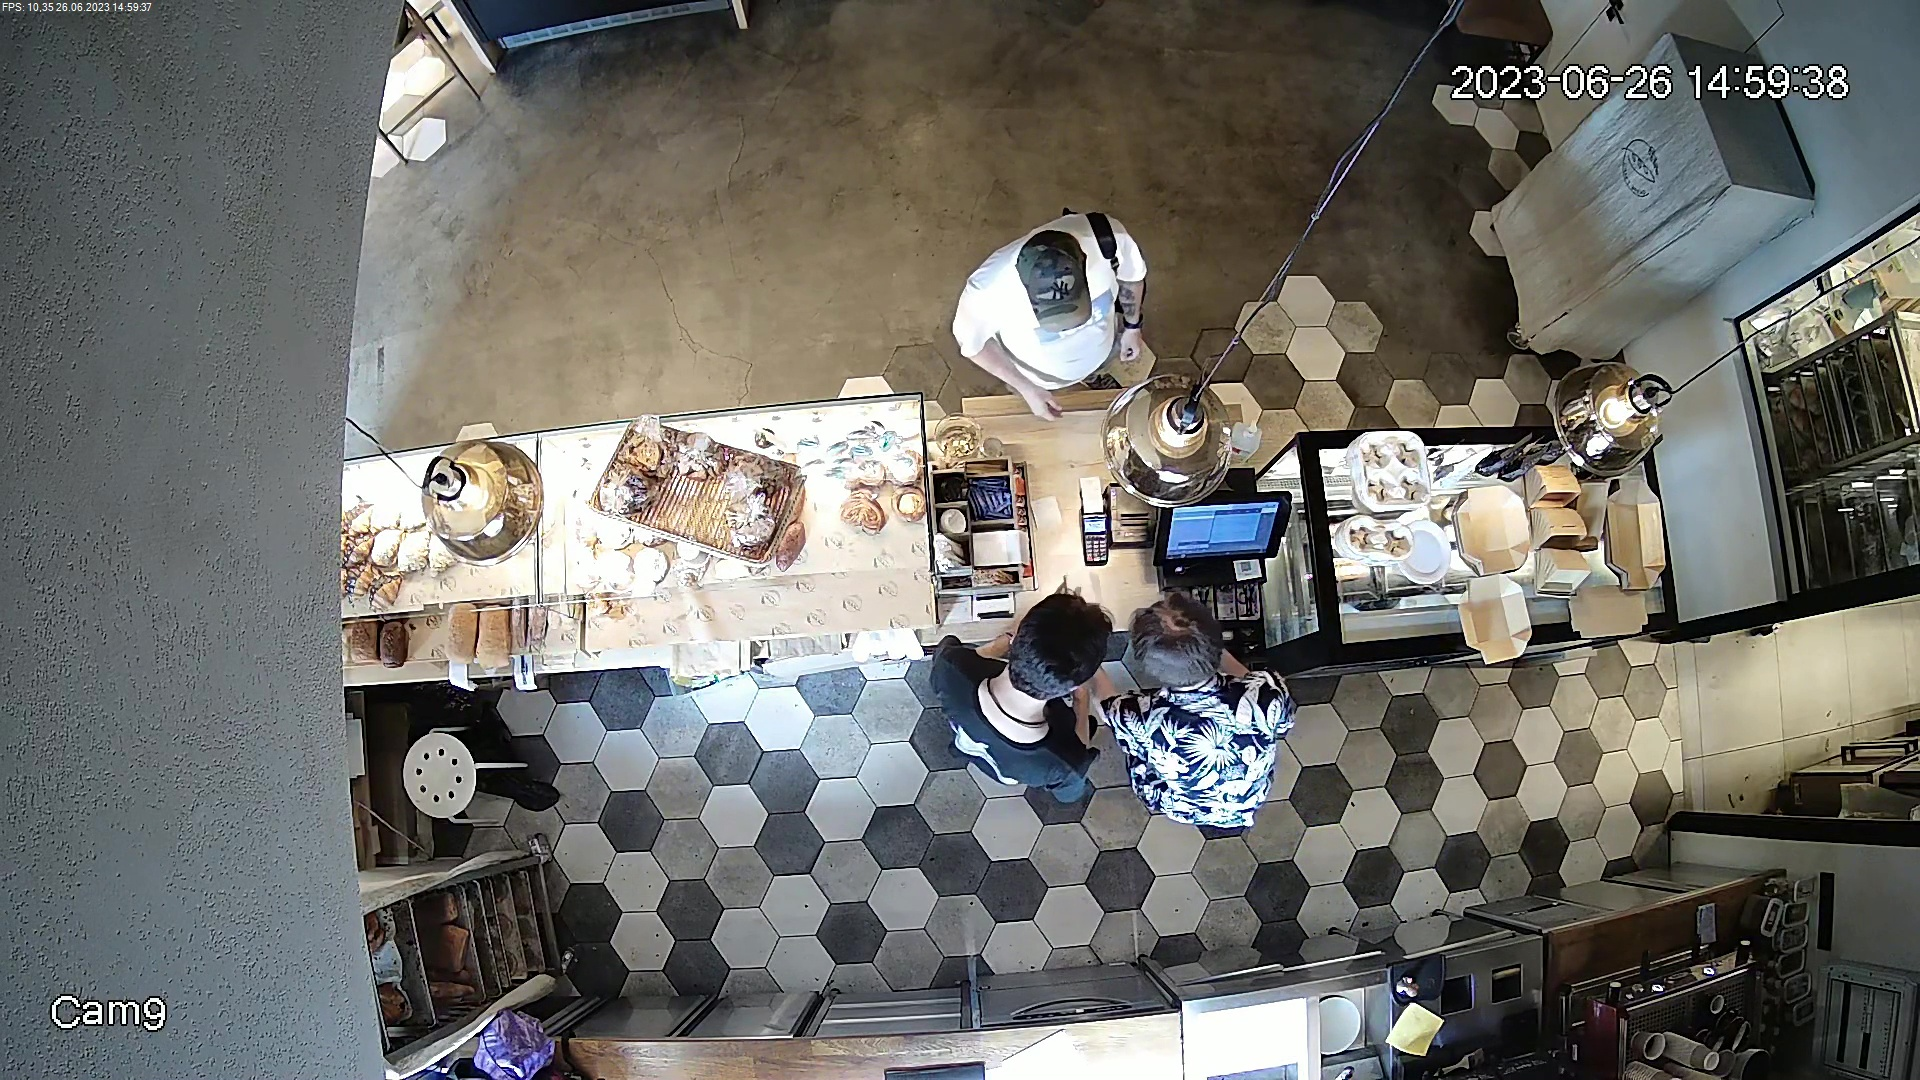barcounter: (339, 445, 1661, 698)
openedcash: (1156, 483, 1290, 679)
person: (941, 196, 1185, 412)
